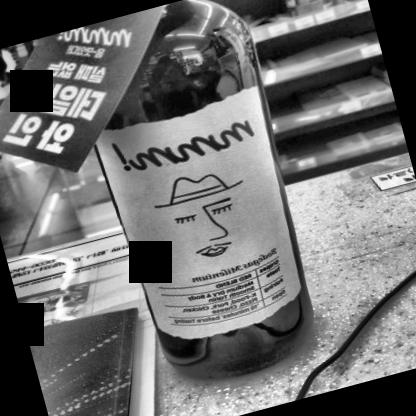umm: (96, 86, 318, 357)
